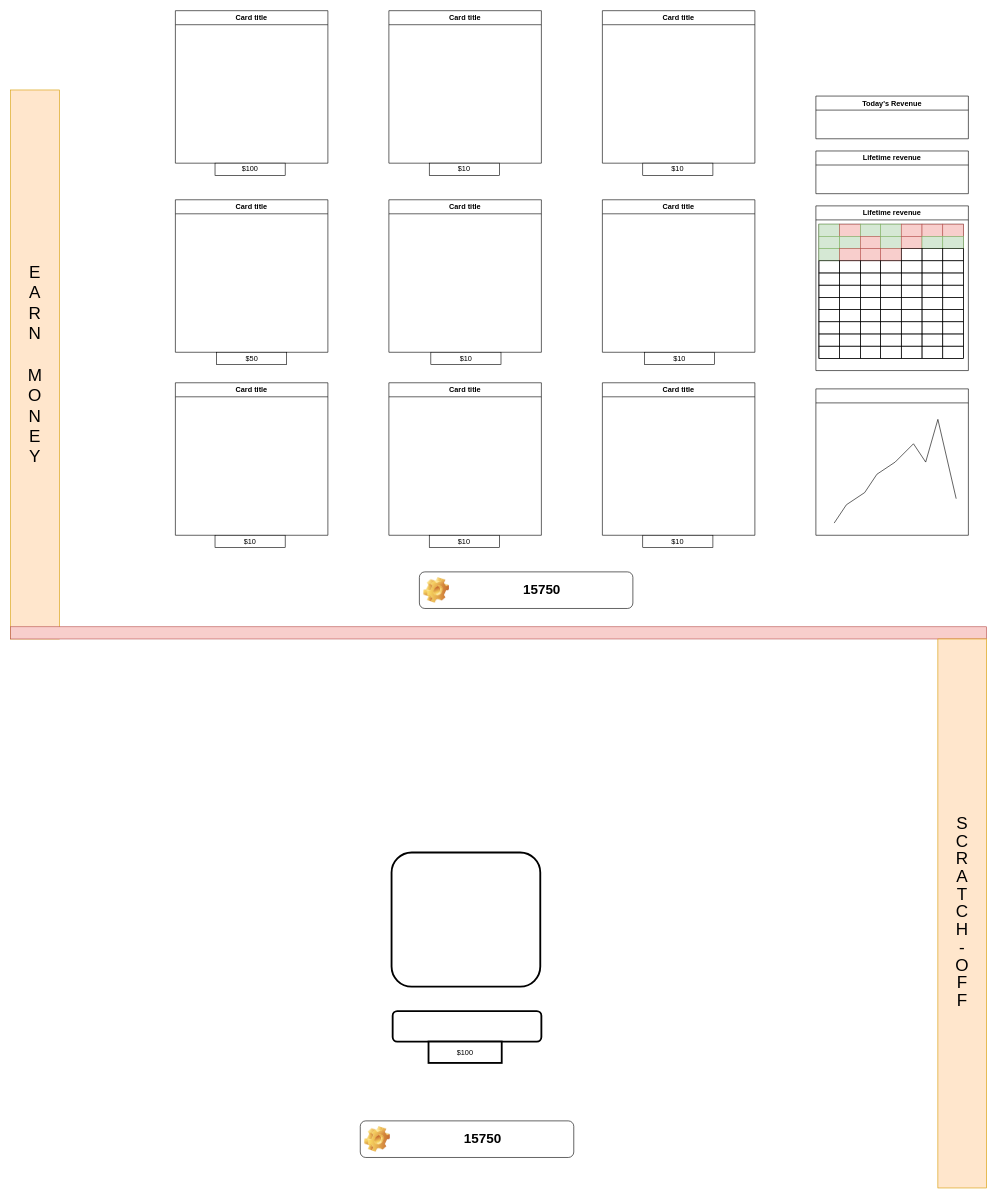
This 997x1199 diagram has some shape labels left out. The shapes that lost their labels are listed below. From the top down, each one's box as (x1, y1, x2, y2) in pixels, then its label:
(10, 626, 987, 639): Quit
(390, 851, 541, 987): Click
(391, 1010, 542, 1042): upgrade
